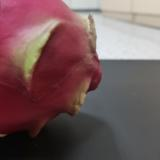pitaya: (1, 1, 102, 143)
